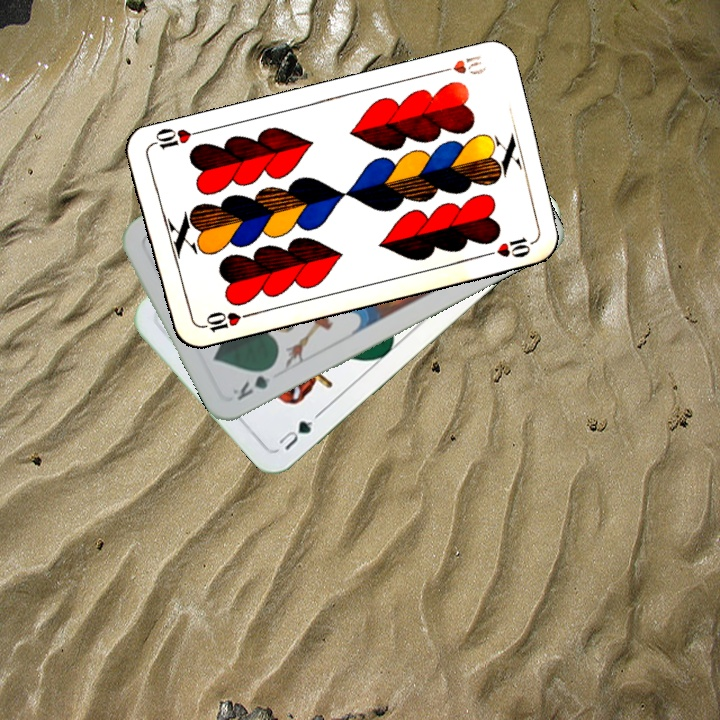GK: (228, 361, 278, 404)
GU: (272, 409, 323, 453)
H10: (195, 307, 253, 335), (431, 51, 489, 78)
